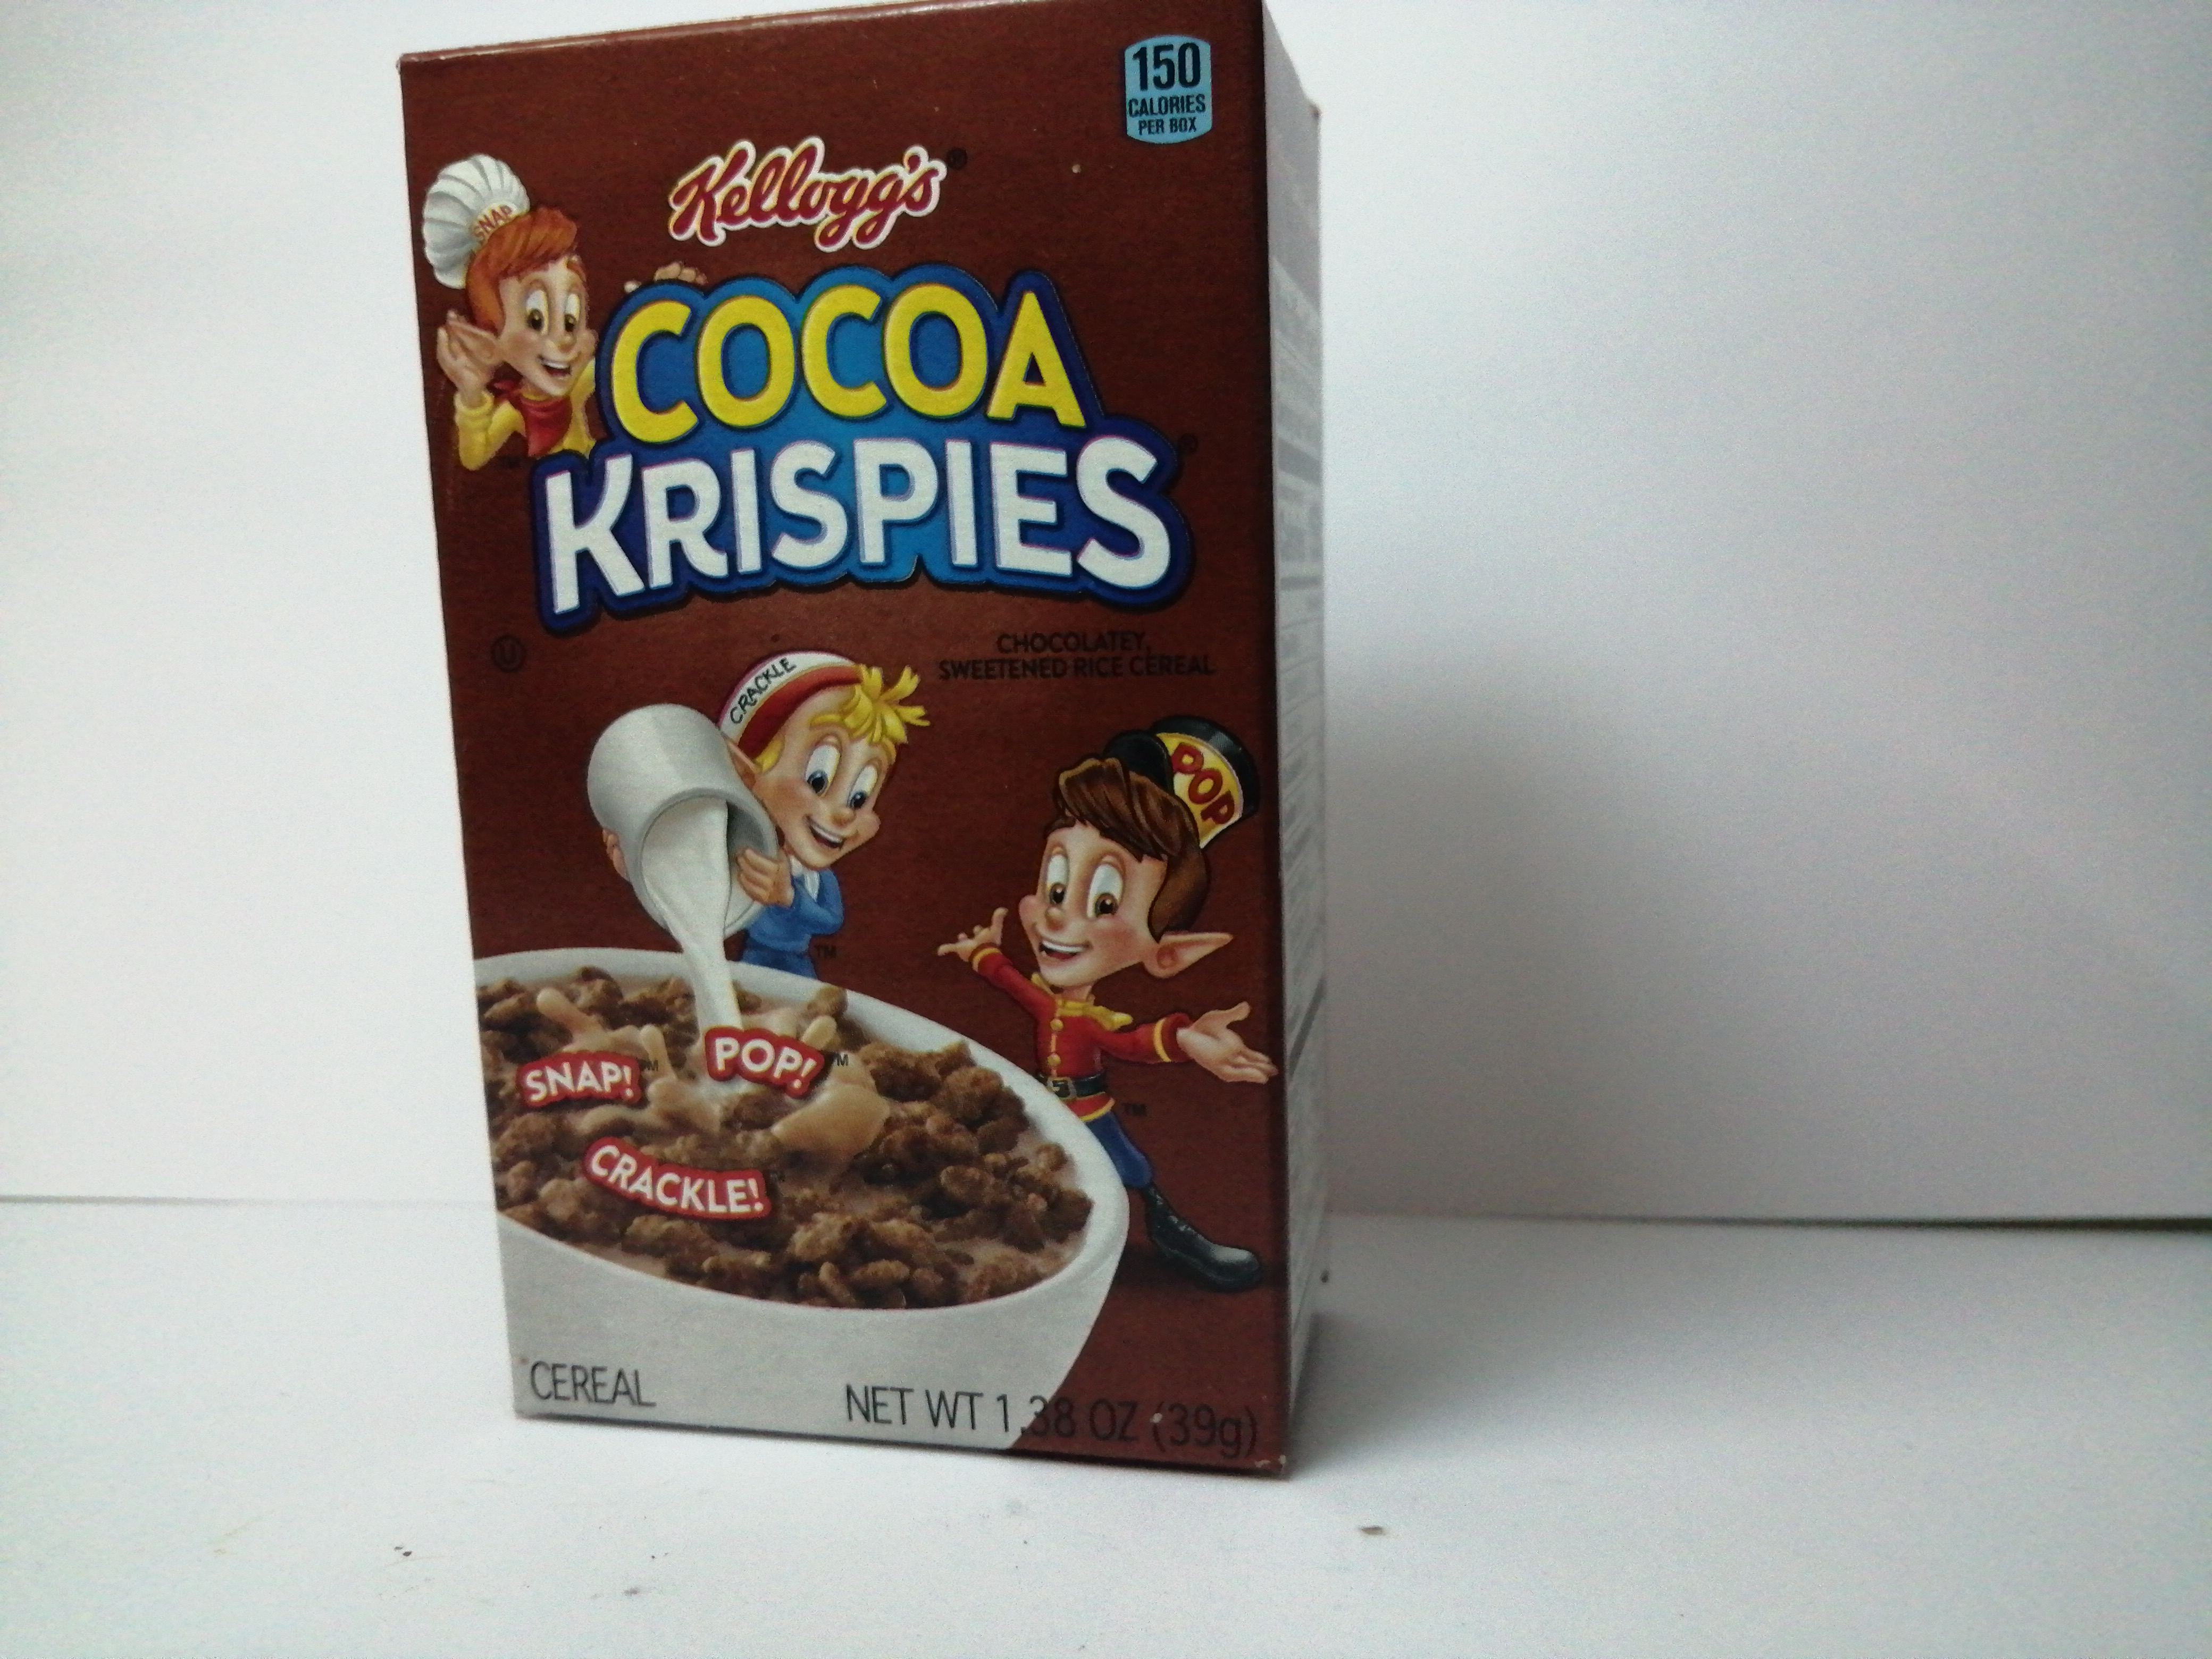cereal chocolate: (374, 0, 1400, 1500)
